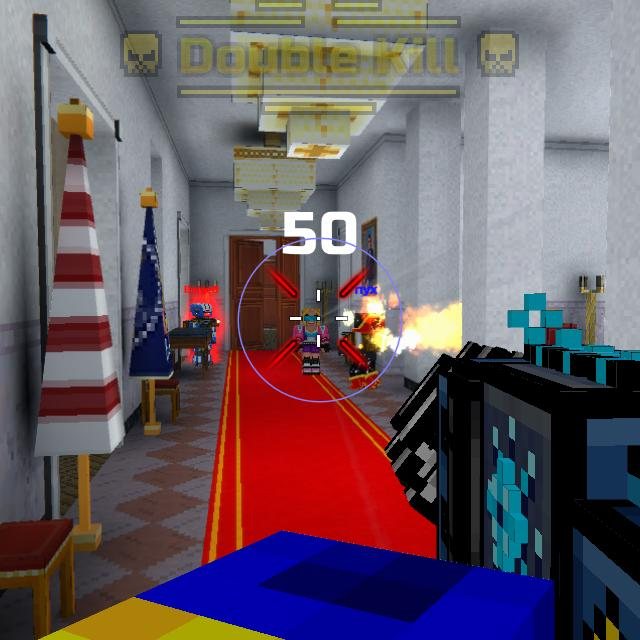Enemy: (184, 303, 220, 366)
